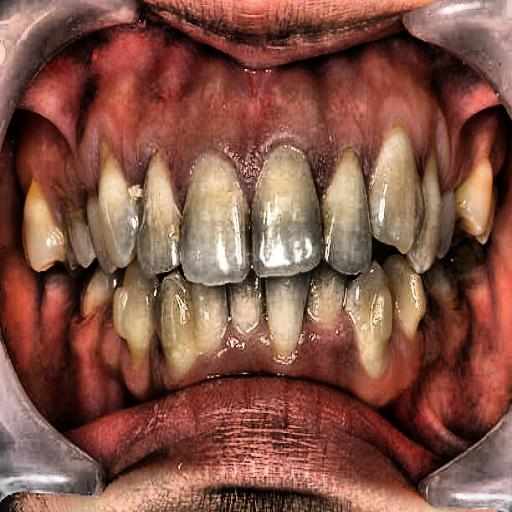Gingivitis: (56, 59, 468, 174), (68, 308, 458, 421)
